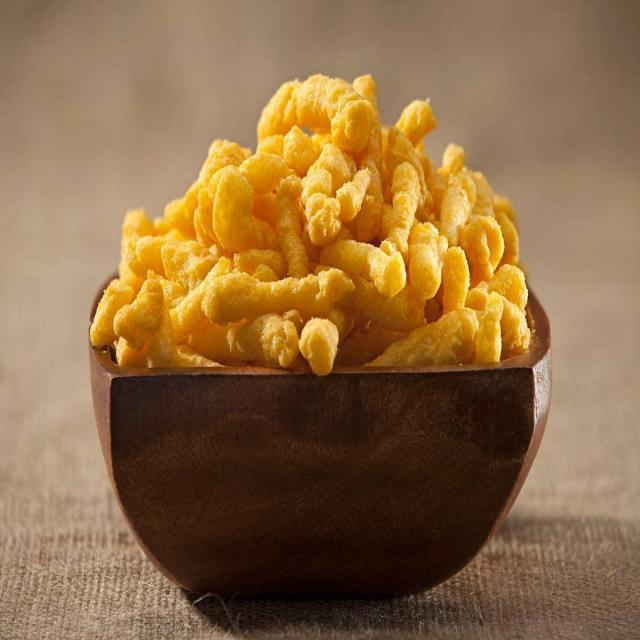Chips packaged: (73, 50, 540, 410)
